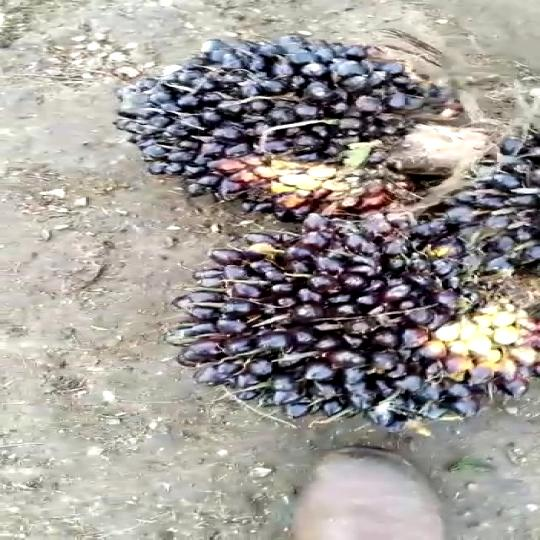mentah: (152, 215, 540, 444), (130, 17, 436, 231)
